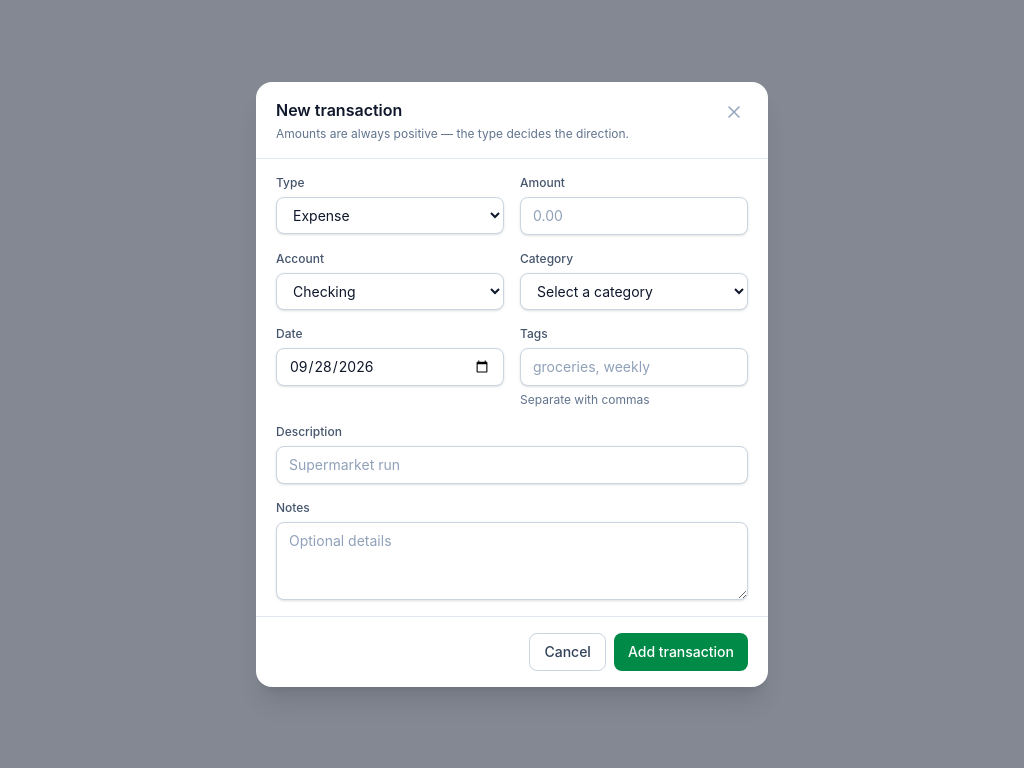
Test: TransactionForm validation › requires a destination account for transfers
This screenshot has width=1024, height=768.
Select "Transfer" in the dropdown labelled "Type" at (390, 215), box [276,196,504,234]
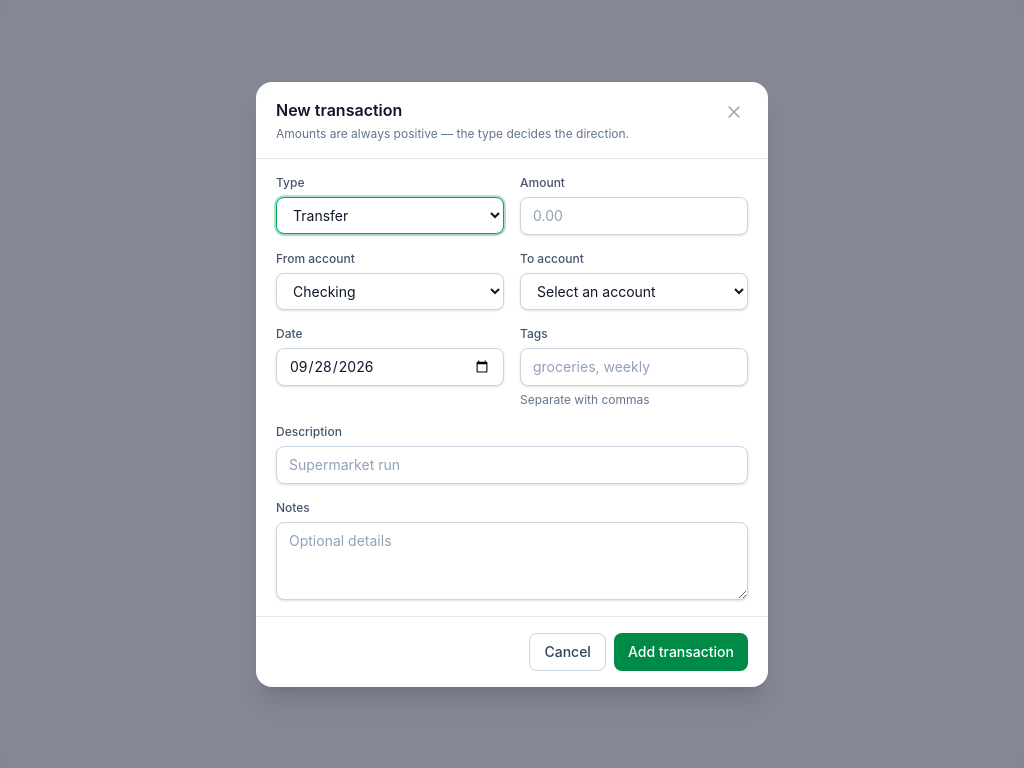
Type "50" into the number field labelled "Amount" at (634, 216), box [520,196,748,234]
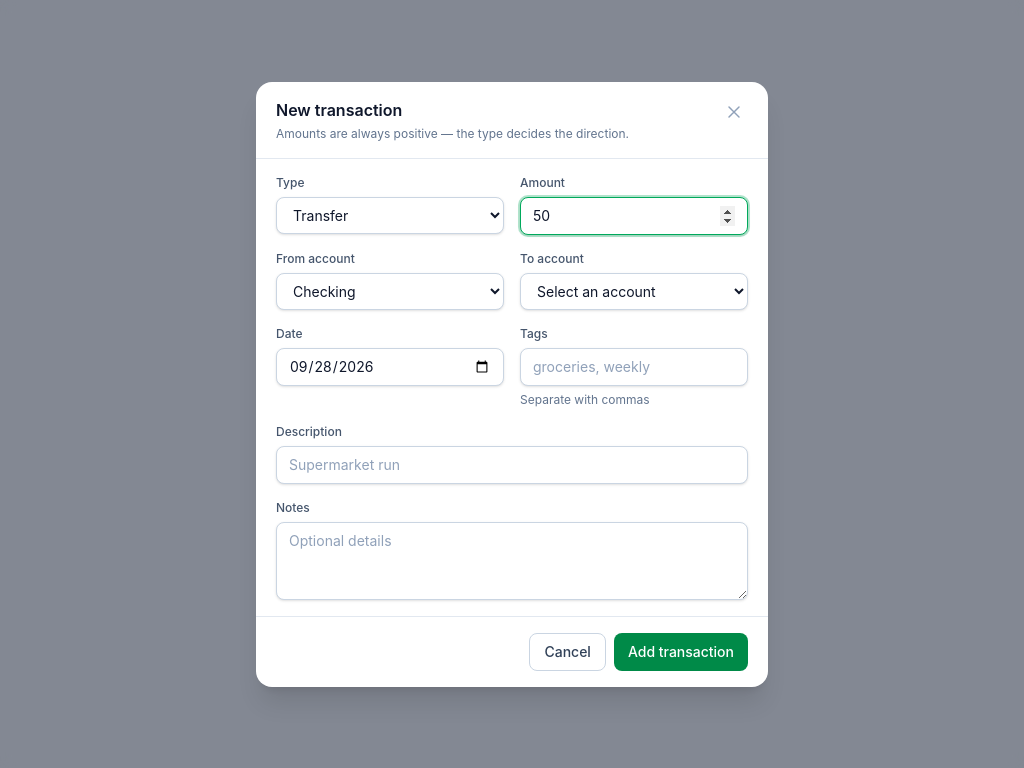
Type "Sweep" into the field labelled "Description" at (512, 464), box [276,446,748,484]
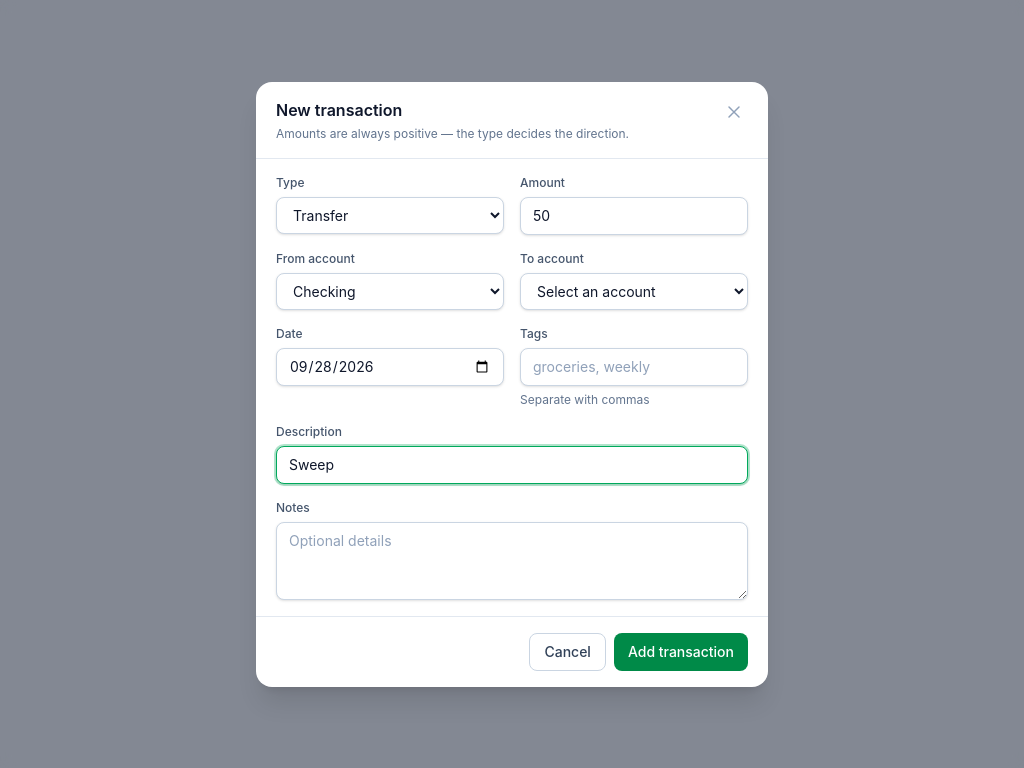
Click the button "Add transaction" at (681, 652), box [614,632,748,670]
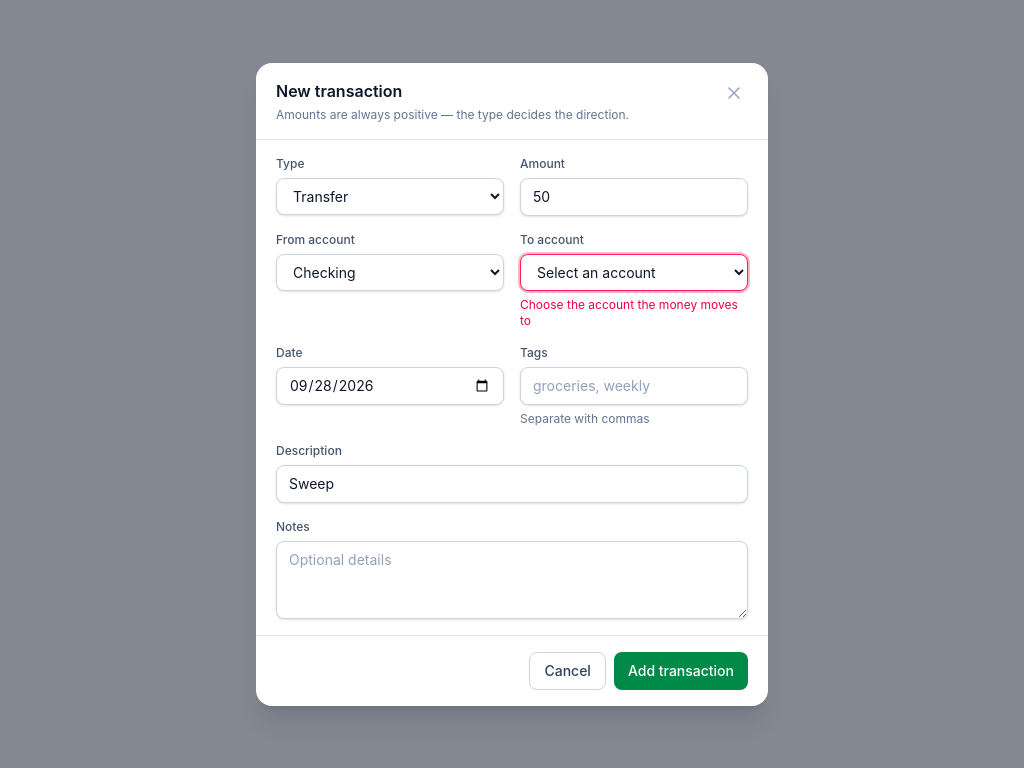
Expected: the text "Choose the account the money moves to" is shown, [520,296,748,328]
